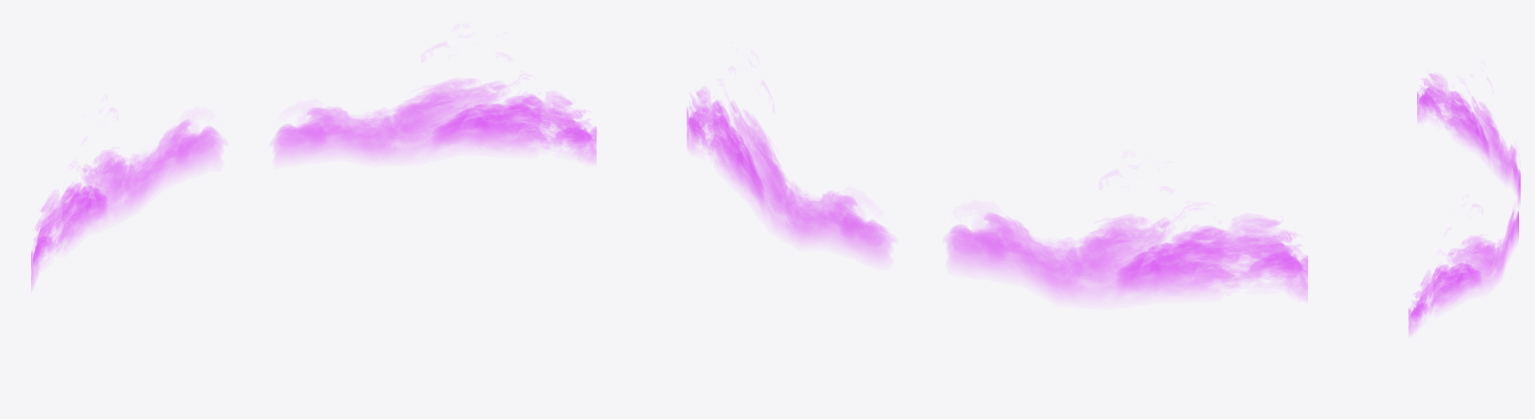
The model's file is fog.glb.
3 renders of one model, left to right at view 1: azimuth 30°, elevation 25°; view 2: azimuth 150°, elevation 25°; view 3: azimuth 270°, elevation 25°, orthographic. The views are drawn at different scales.
Parts seen in each view (by area): view 1: fog.002_16; view 2: fog.002_16; view 3: fog.002_16.
Part boxes in pixels (x1=…): fog.002_16: x1=31, y1=79, x2=596, y2=287; fog.002_16: x1=686, y1=90, x2=1307, y2=298; fog.002_16: x1=1408, y1=74, x2=1520, y2=334.
Size of the model in its own units: 95.31 by 38.76 by 23.15.
Materials: 1 (1 with a texture image).
